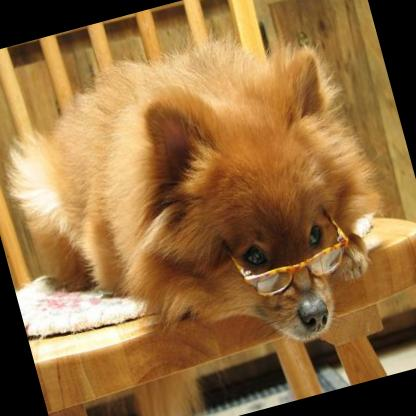Pomeranian: (0, 5, 405, 399)
